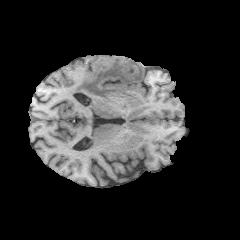glioma: (73, 57, 145, 100)
